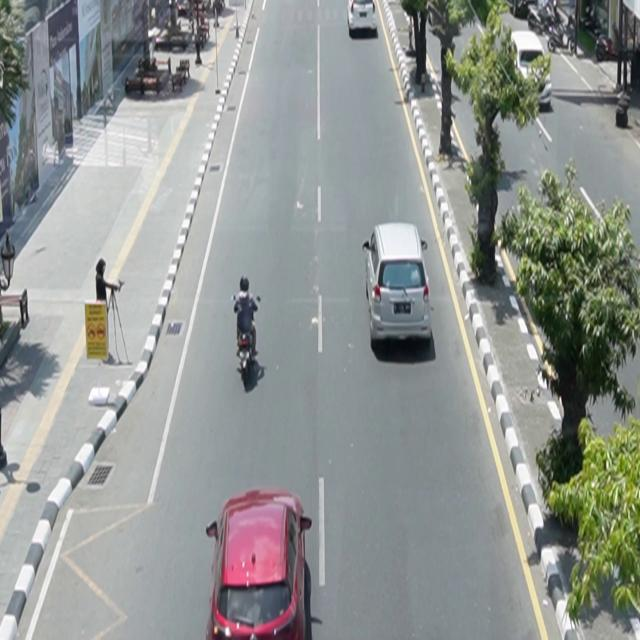car: (206, 490, 313, 640), (363, 222, 433, 349), (504, 31, 554, 110), (348, 1, 378, 35)
